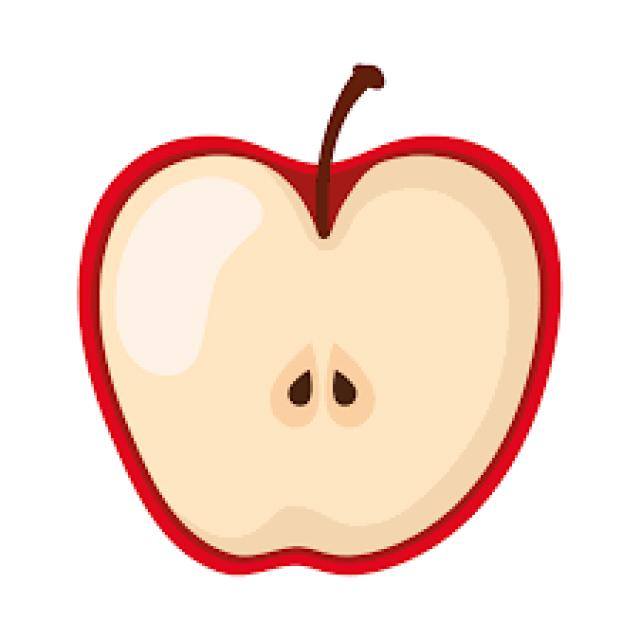Apple: (78, 136, 560, 578)
